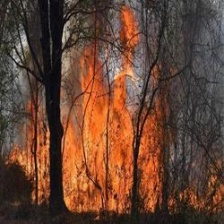fire: (15, 36, 165, 210)
